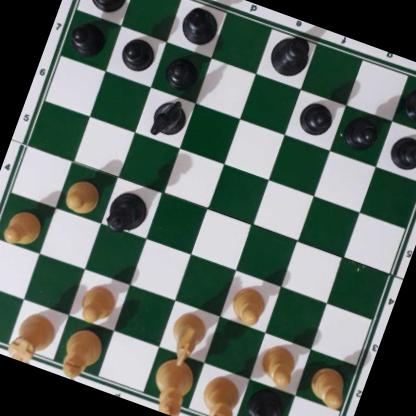black-bishop: (173, 2, 224, 51), (236, 382, 294, 416)
black-king: (263, 26, 317, 82)
black-knight: (145, 93, 192, 145)
black-pawn: (295, 95, 338, 139), (67, 16, 110, 58), (117, 32, 157, 75), (342, 111, 383, 152), (162, 50, 202, 92), (386, 129, 416, 175)
black-queen: (102, 186, 151, 238)
black-rook: (75, 0, 133, 16), (402, 72, 416, 129)
white-bishop: (54, 324, 108, 386), (193, 372, 246, 416)
white-king: (144, 351, 199, 416)
white-knight: (160, 307, 212, 373)
white-pawn: (254, 339, 303, 389), (305, 361, 353, 409), (75, 278, 121, 327), (58, 172, 105, 218), (0, 204, 46, 250), (225, 280, 270, 327)
white-rook: (4, 305, 61, 369)
